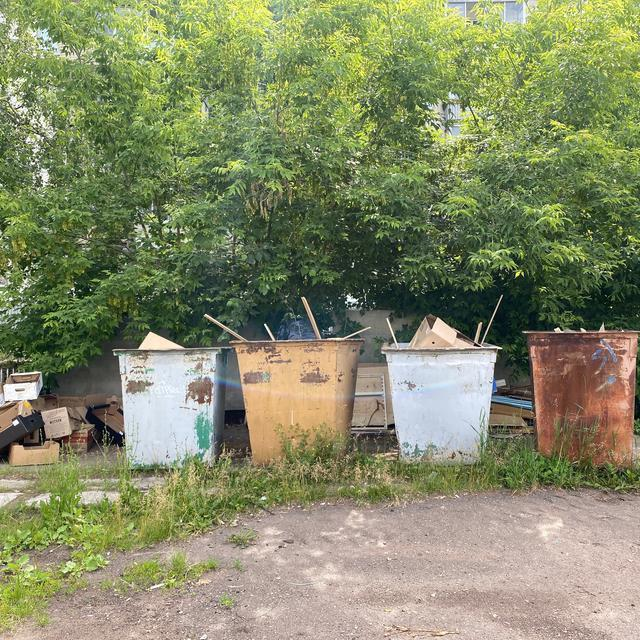Trash_Can_Empty: (522, 329, 640, 463)
Trash_Can_Full: (232, 318, 365, 463), (381, 313, 504, 464), (111, 331, 233, 471)
